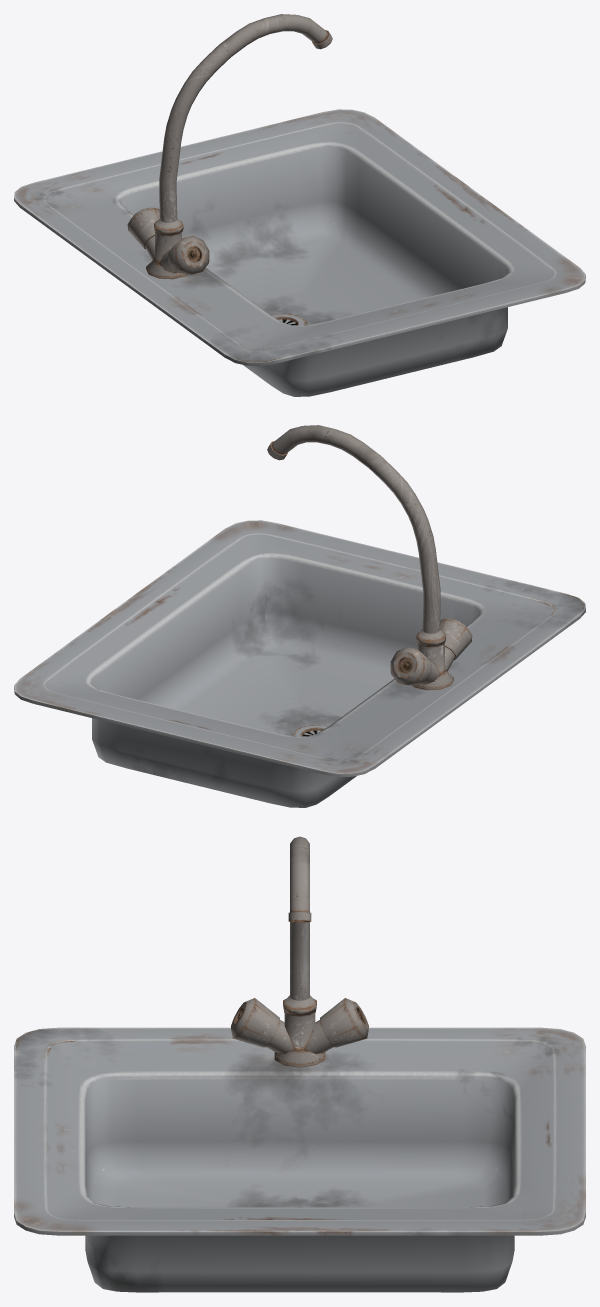
The model's file is SM_Sink01.FBX.
3 renders of one model, top to bottom at view 1: azimuth 30°, elevation 25°; view 2: azimuth 150°, elevation 25°; view 3: azimuth 270°, elevation 25°, orthographic. The views are drawn at different scales.
Visible parts, largest first — view 1: SM_Sink01_LOD0; view 2: SM_Sink01_LOD0; view 3: SM_Sink01_LOD0.
Boxes of the visible parts, x1,y1,x2,y2 form: SM_Sink01_LOD0: (14,14,585,396); SM_Sink01_LOD0: (14,425,585,807); SM_Sink01_LOD0: (14,836,585,1292).
Size of the model in its own units: 43.08 by 51 by 36.02.
